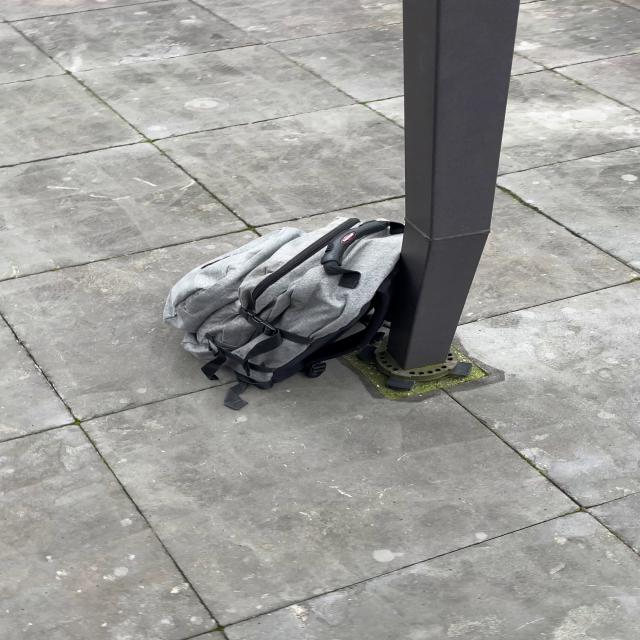backpack: (148, 208, 411, 393)
